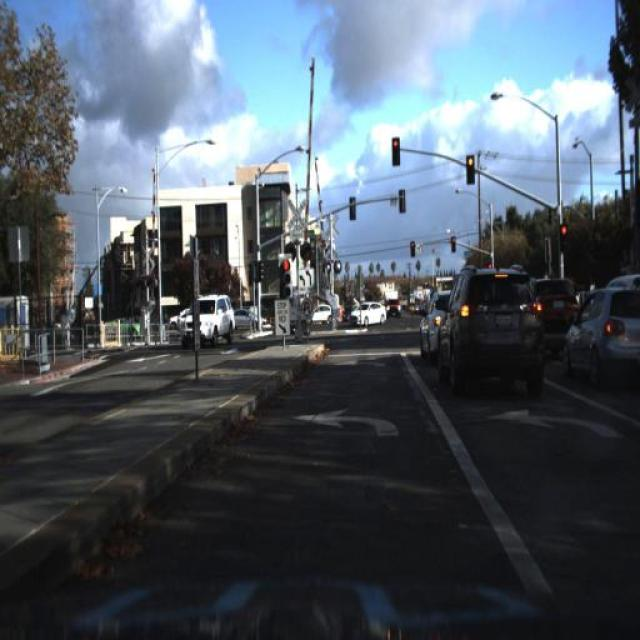car: (432, 258, 552, 402), (568, 268, 640, 398), (566, 283, 640, 387), (176, 291, 236, 351), (178, 290, 233, 354), (538, 266, 566, 362), (418, 292, 438, 362), (276, 302, 312, 337), (231, 304, 267, 338), (348, 301, 388, 328), (306, 296, 340, 326), (274, 306, 304, 338), (234, 305, 260, 331), (383, 292, 405, 322), (167, 307, 188, 331), (386, 298, 400, 318)
trafficLight: (630, 302, 640, 352)
trafficLight-RedLeft: (277, 250, 295, 304), (275, 257, 287, 298), (406, 234, 419, 267), (558, 216, 570, 250), (466, 152, 478, 182), (464, 154, 475, 182), (390, 135, 400, 163), (559, 221, 569, 249), (449, 228, 459, 254), (450, 232, 460, 258), (410, 230, 420, 255)
trafficLight-Yellow: (392, 133, 402, 167)
